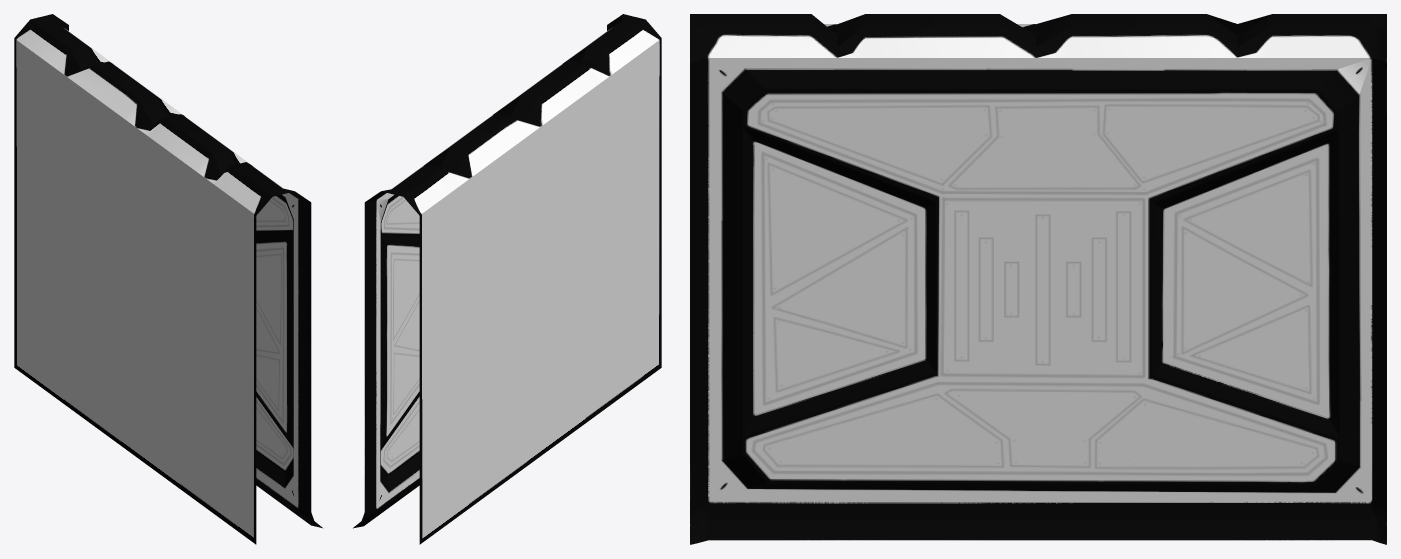
The model's file is Nieuwe Muur Basic 1 .fbx.
3 views of the same model, side by side, from view 1: azimuth 30°, elevation 25°; view 2: azimuth 150°, elevation 25°; view 3: azimuth 270°, elevation 25° (orthographic). The views are drawn at different scales.
Parts seen in each view (by area): view 1: NIeuwe_Muur_Basic_1; view 2: NIeuwe_Muur_Basic_1; view 3: NIeuwe_Muur_Basic_1.
Boxes of the visible parts, x1,y1,x2,y2 form: NIeuwe_Muur_Basic_1: [14, 14, 322, 544]; NIeuwe_Muur_Basic_1: [353, 14, 661, 544]; NIeuwe_Muur_Basic_1: [690, 14, 1386, 544].
Size of the model in its own units: 3.21 by 15.68 by 20.
Materials: 1 (1 with a texture image).
